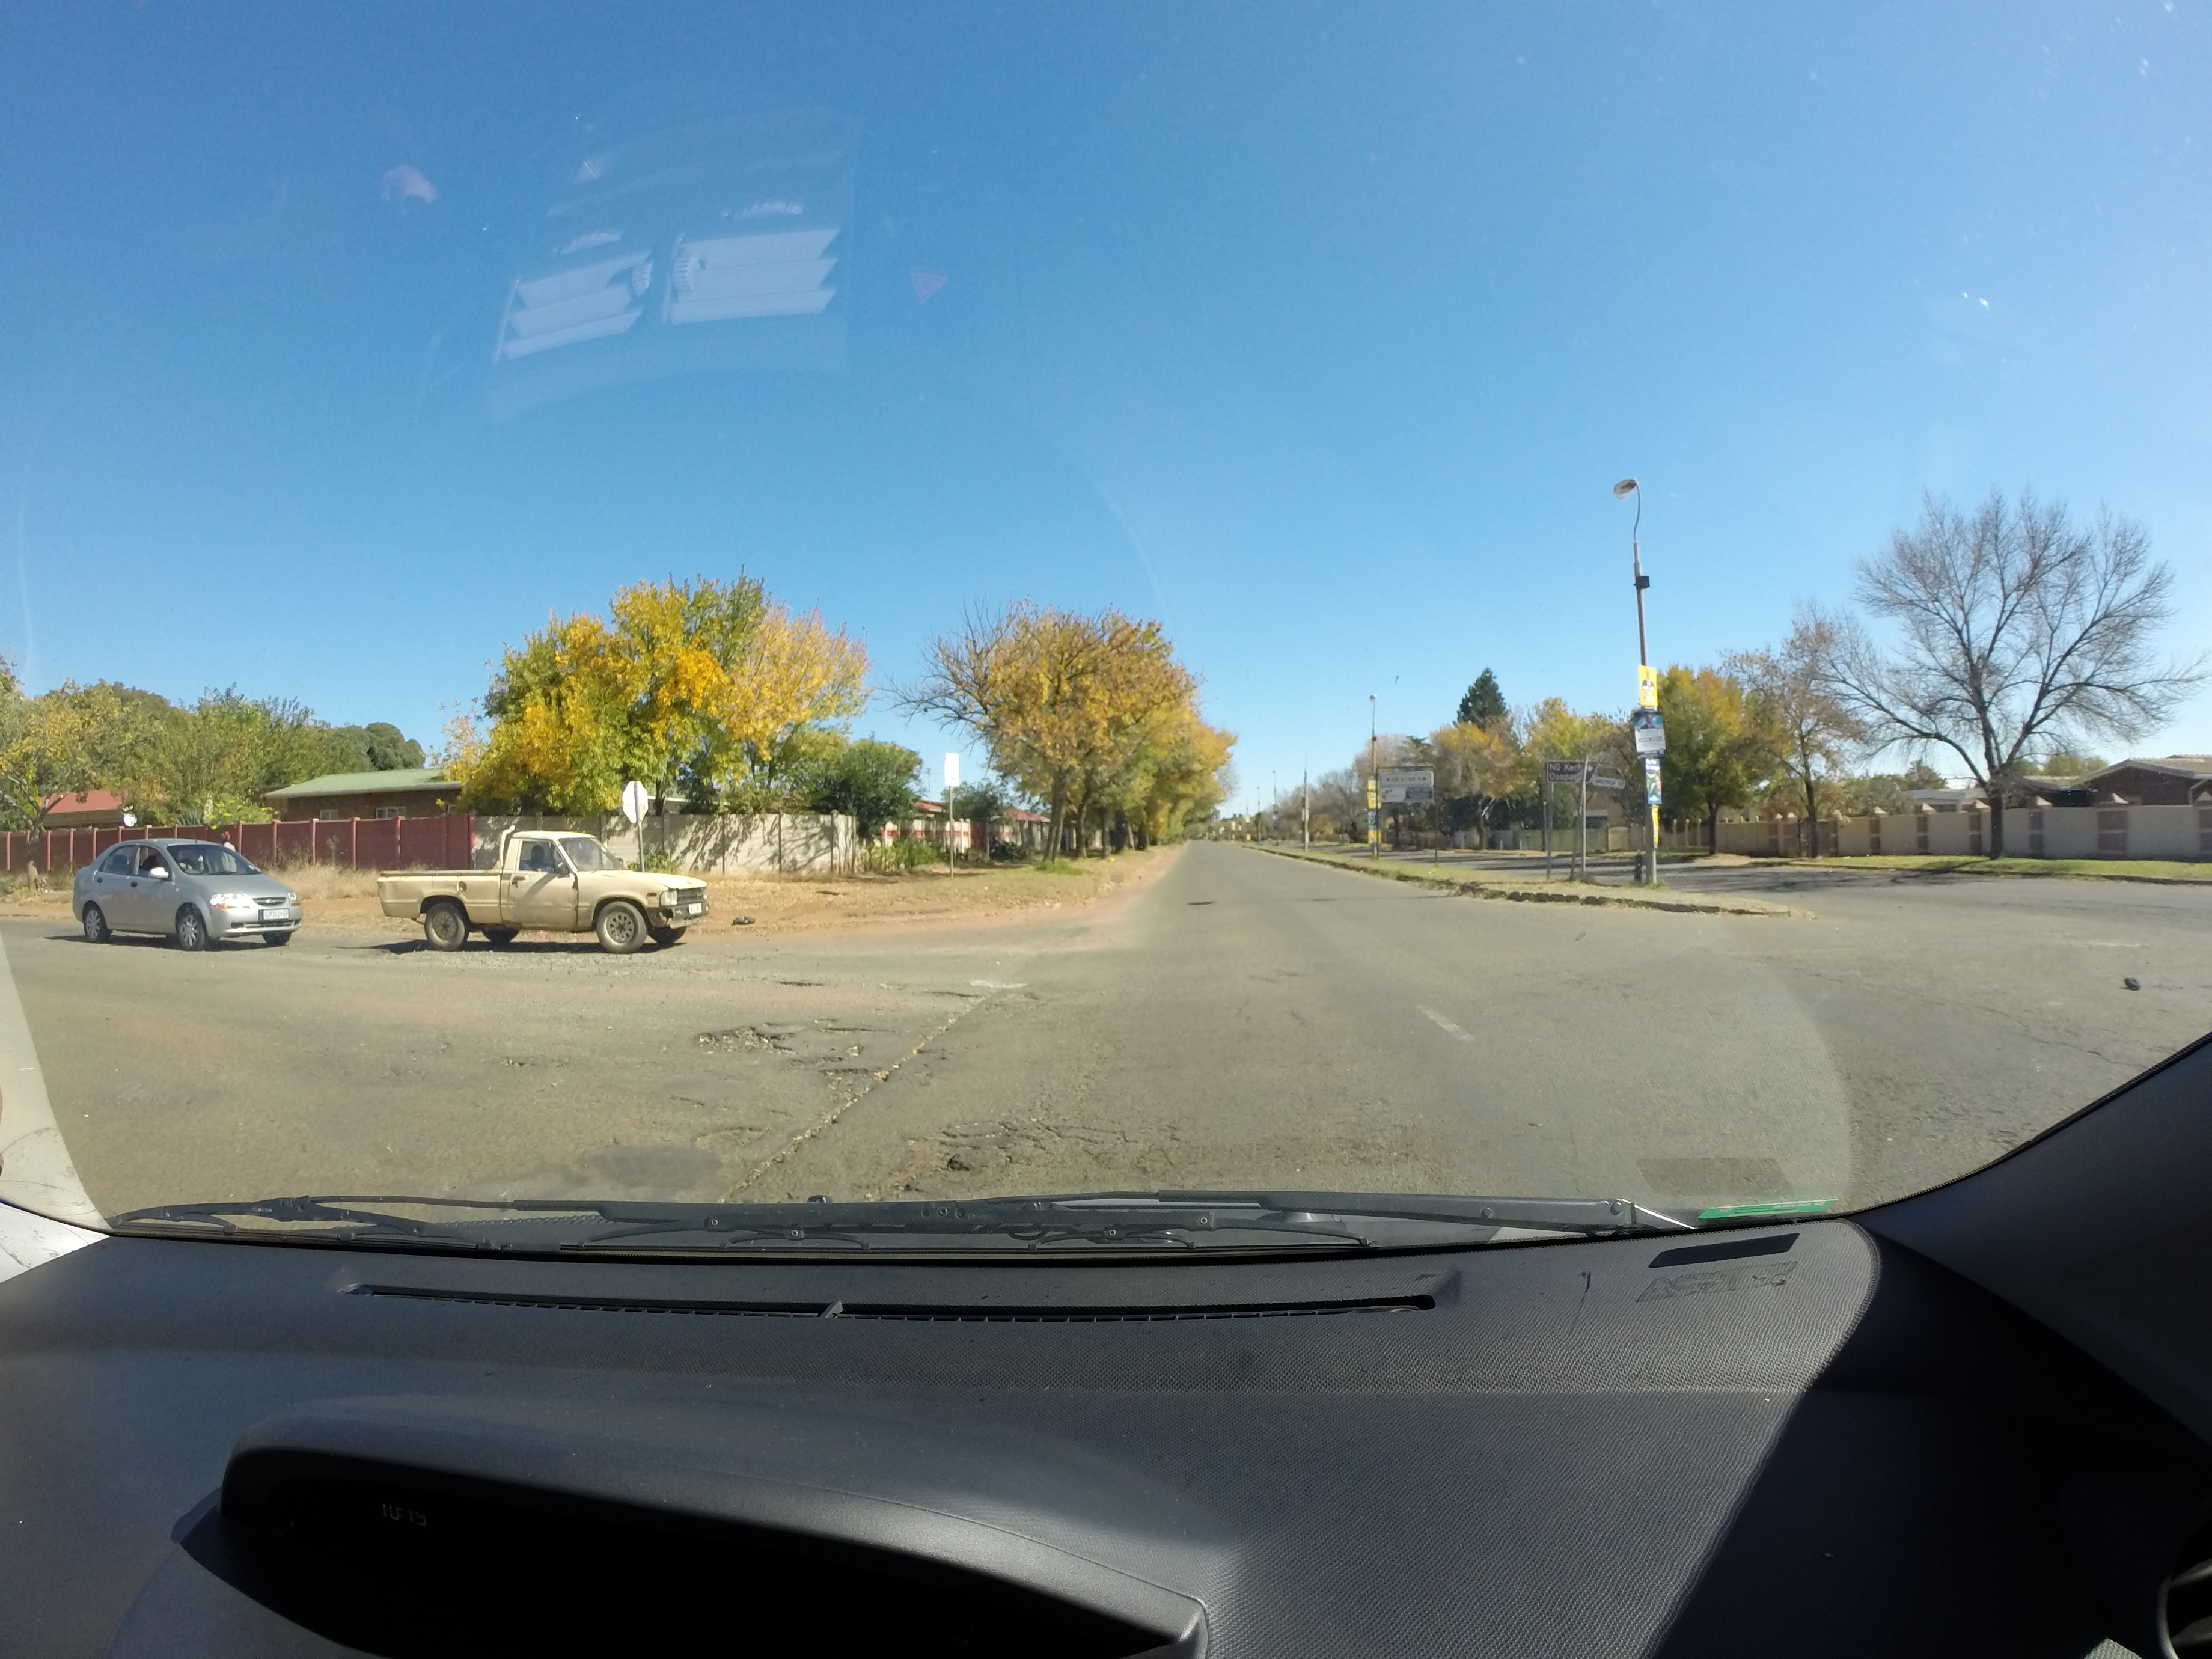pothole: (610, 965, 925, 1093), (907, 1080, 1148, 1192)
